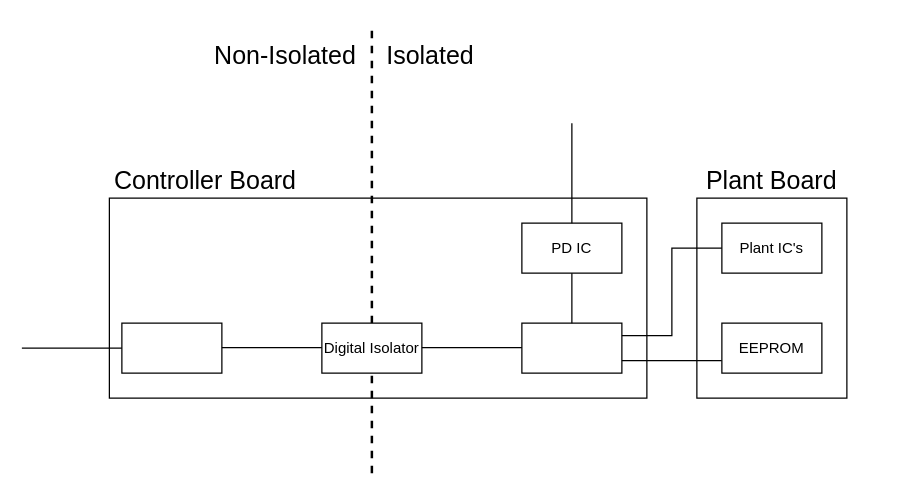
The diagram is 903 pixels wide and 496 high, and some of its shapes have lost their labels. Here are the shapes that lost their labels. From the top down, the box of each, then its label:
(121, 322, 222, 373): USB Bridge
(521, 322, 622, 373): Main MCU
